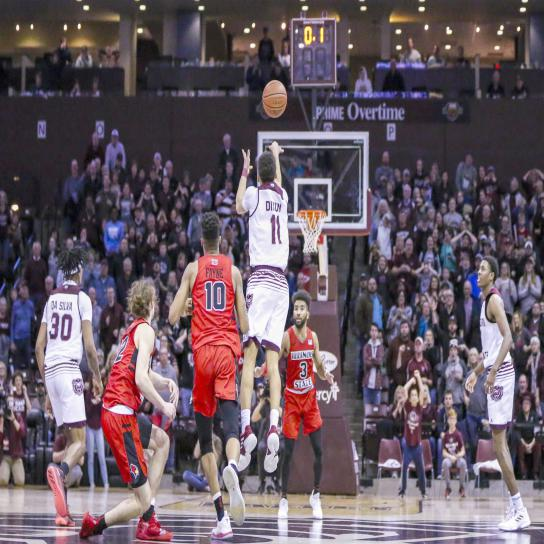basketball-hoop: (294, 204, 327, 254)
